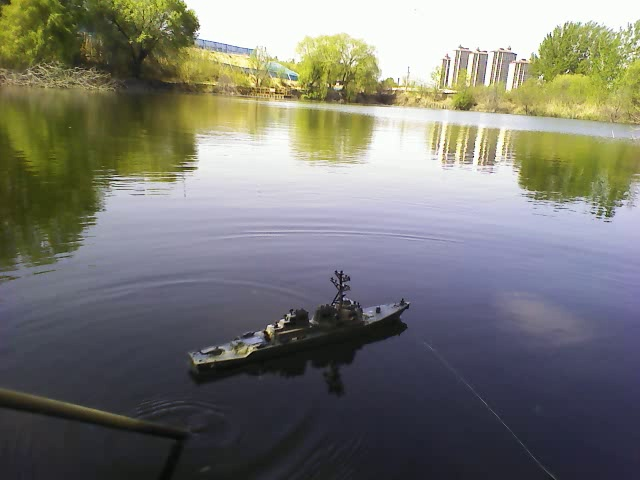warship: (181, 261, 415, 375)
